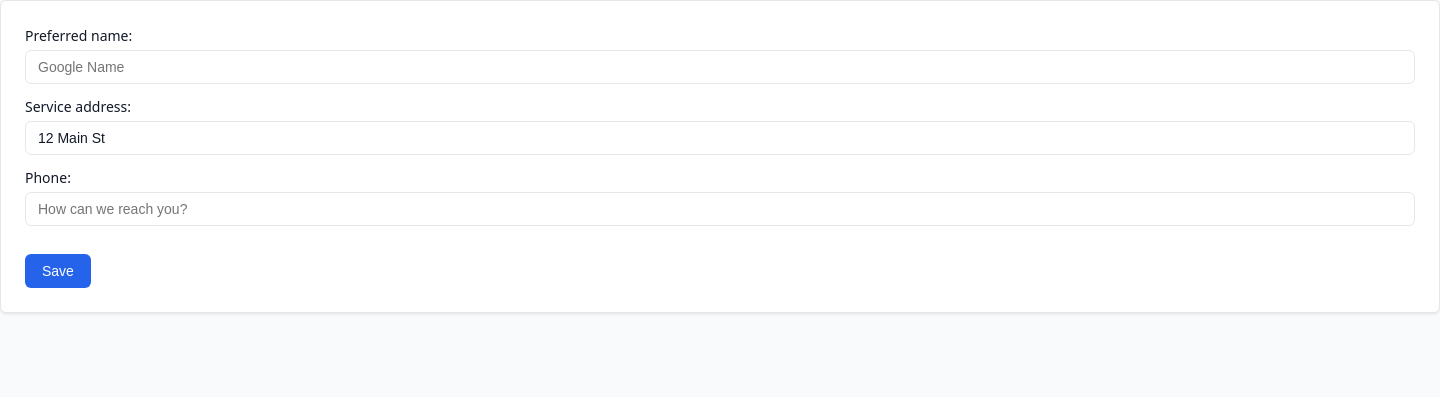
Test: ProfileForm › rejects a clearly-malformed phone number on submit
Type "123" into the field labelled "Phone:".
click(720, 209); type("123")  # box [25,192,1415,226]
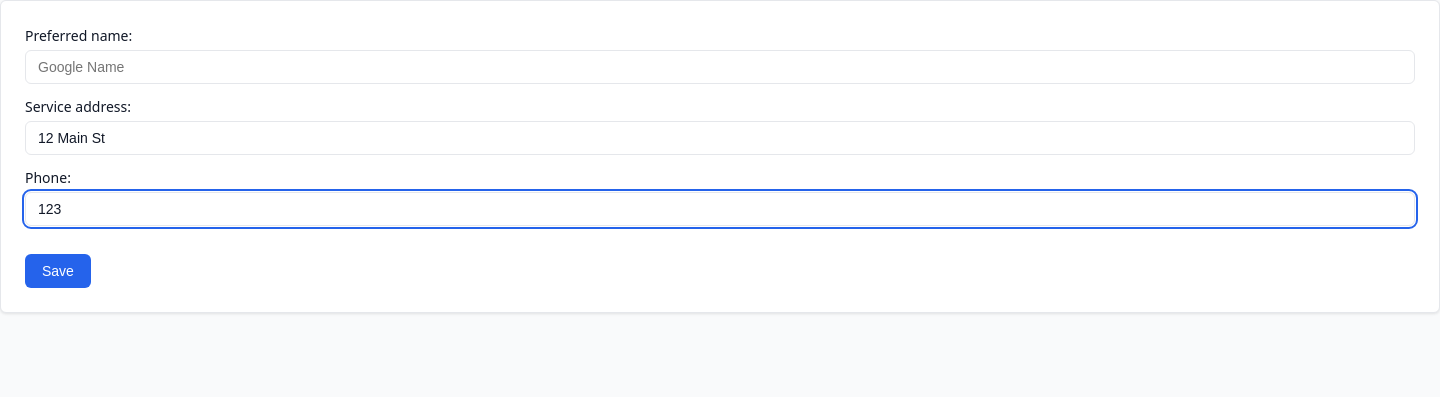
Click the button "Save".
click(58, 271)  # box [25,254,91,288]
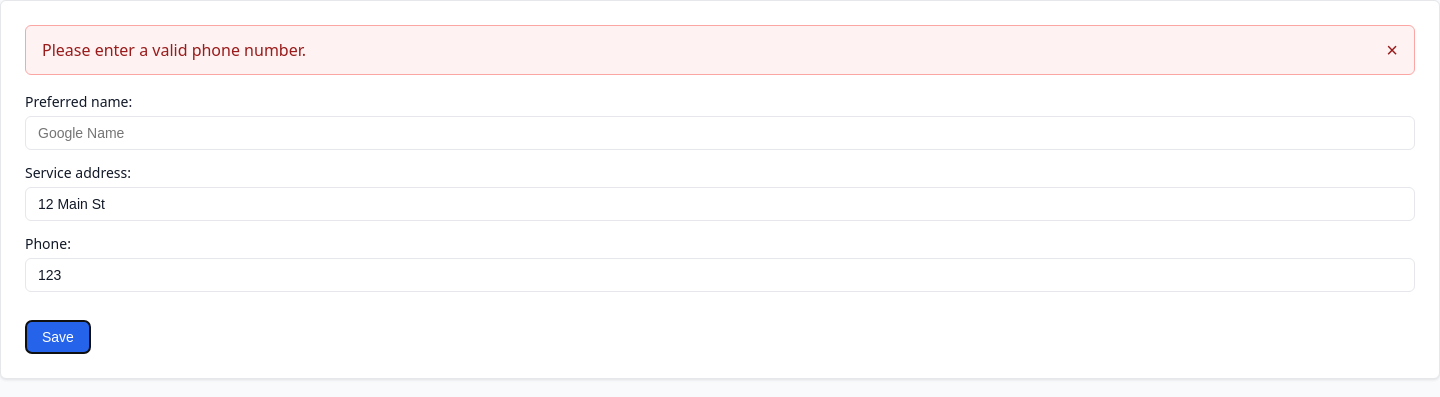
Expected: the text "Please enter a valid phone number." is shown, [42,38,306,62]
